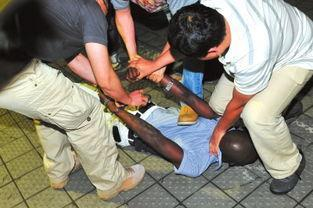Fall-Detected: (108, 60, 265, 191)
